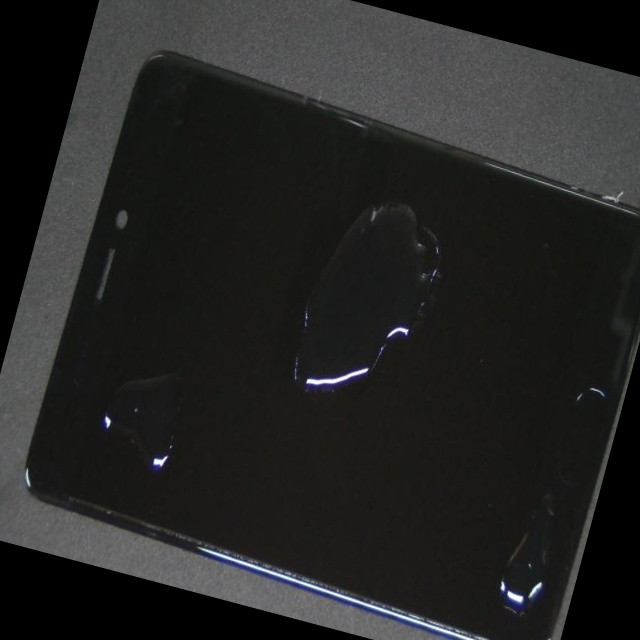oil: (115, 203, 570, 567), (60, 211, 315, 600)
